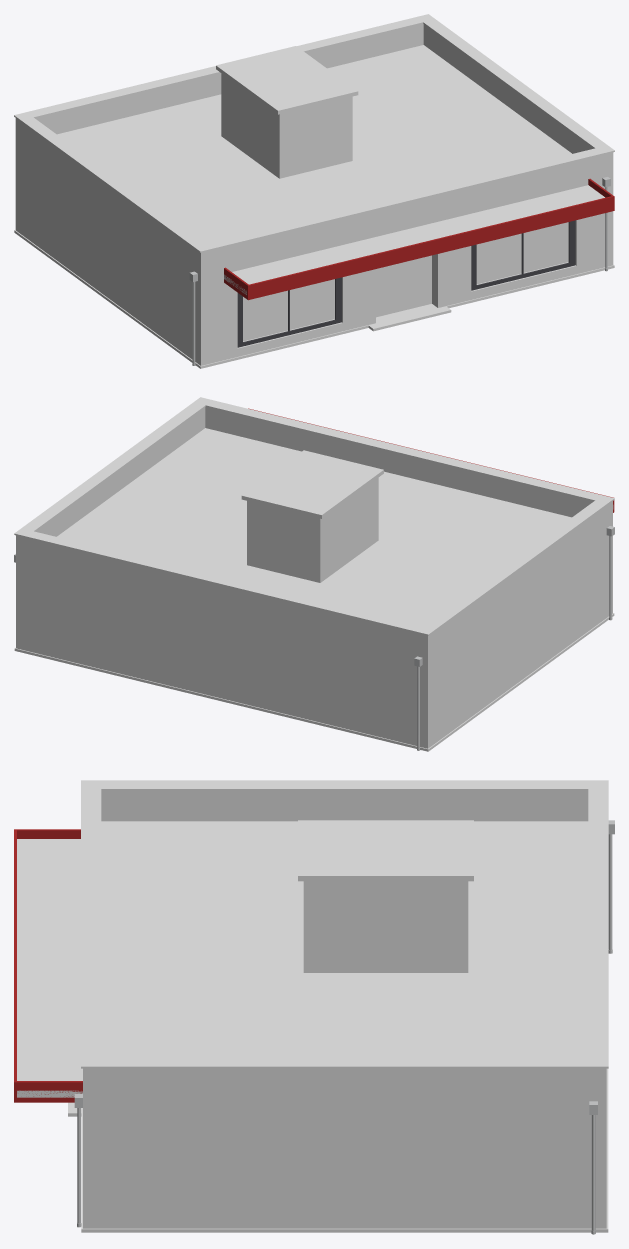
File: Supermarket.fbx
3 views of the same model, one above another, from view 1: azimuth 30°, elevation 25°; view 2: azimuth 150°, elevation 25°; view 3: azimuth 270°, elevation 25° (orthographic). The views are drawn at different scales.
Parts seen in each view (by area): view 1: Supermarket_EXT_LOD0, BSP_01, PRT_003, UTM_BD_concrete, PRT_001, PRT_002; view 2: Supermarket_EXT_LOD0, UTM_BD_concrete; view 3: Supermarket_EXT_LOD0, UTM_BD_concrete.
Part boxes in pixels (x1=…): Supermarket_EXT_LOD0: x1=14, y1=14, x2=614, y2=368; BSP_01: x1=243, y1=223, x2=567, y2=341; PRT_003: x1=476, y1=222, x2=568, y2=284; UTM_BD_concrete: x1=15, y1=120, x2=613, y2=267; PRT_001: x1=243, y1=279, x2=334, y2=340; PRT_002: x1=376, y1=257, x2=431, y2=317; Supermarket_EXT_LOD0: x1=14, y1=397, x2=614, y2=751; UTM_BD_concrete: x1=16, y1=502, x2=612, y2=635; Supermarket_EXT_LOD0: x1=14, y1=780, x2=614, y2=1234; UTM_BD_concrete: x1=83, y1=1068, x2=602, y2=1099.
Size of what is drawn, in the model's own units: 1844 by 696 by 1606.
